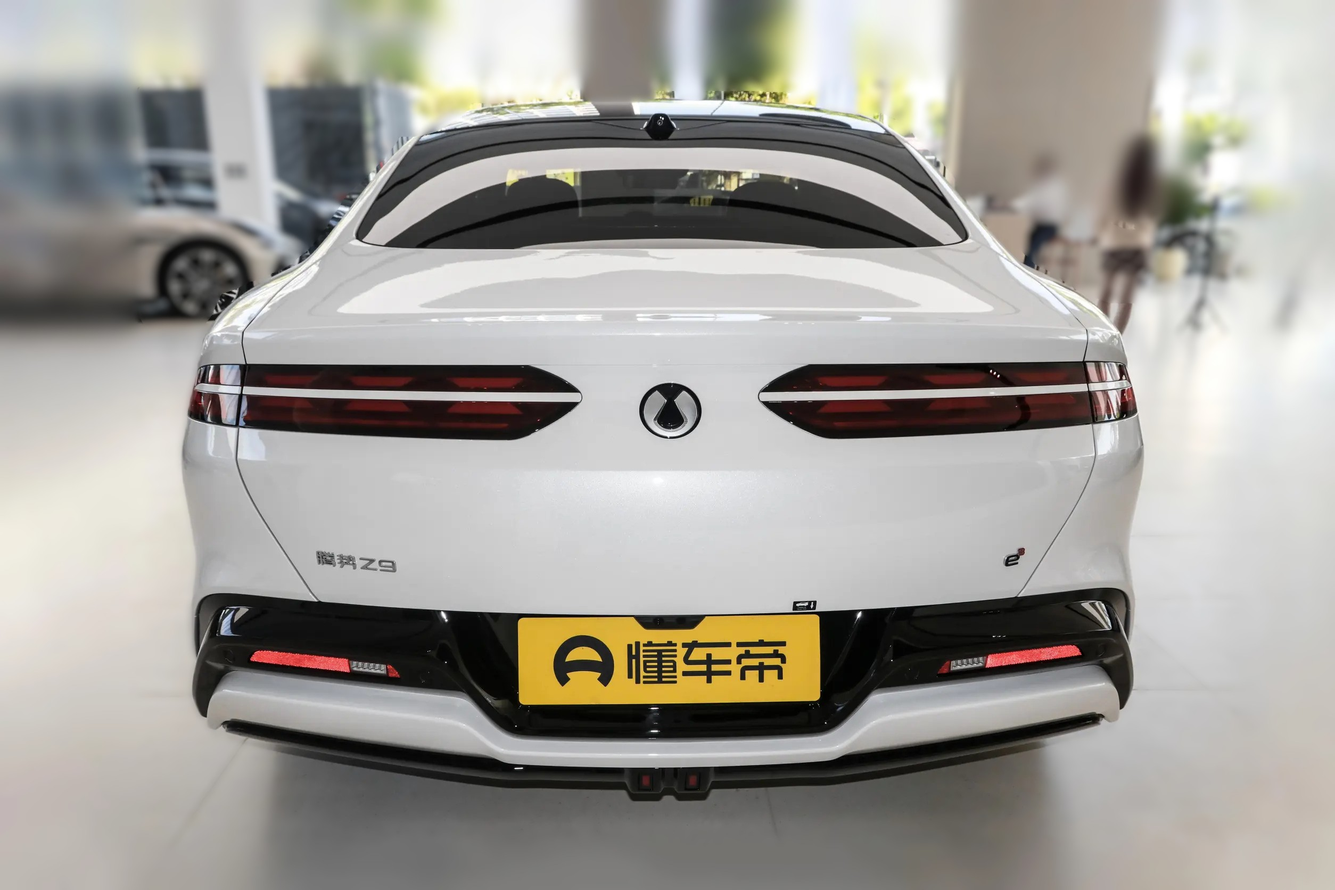DENZA: (644, 391, 696, 435)
